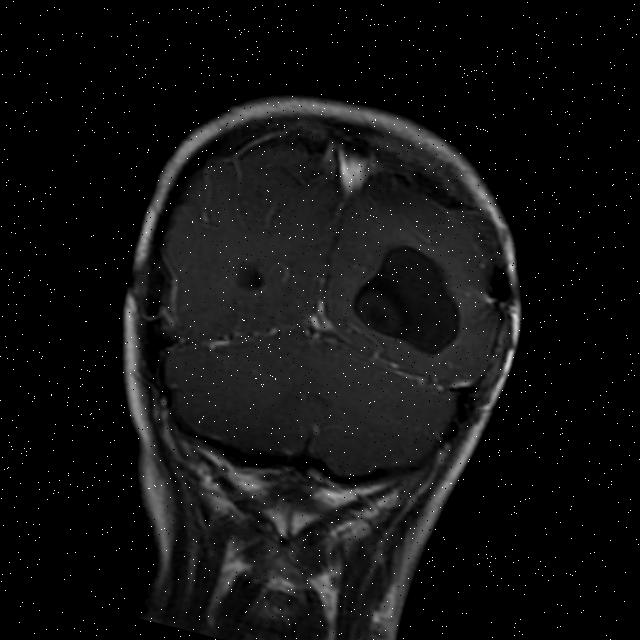Glioma: (344, 232, 479, 365)
